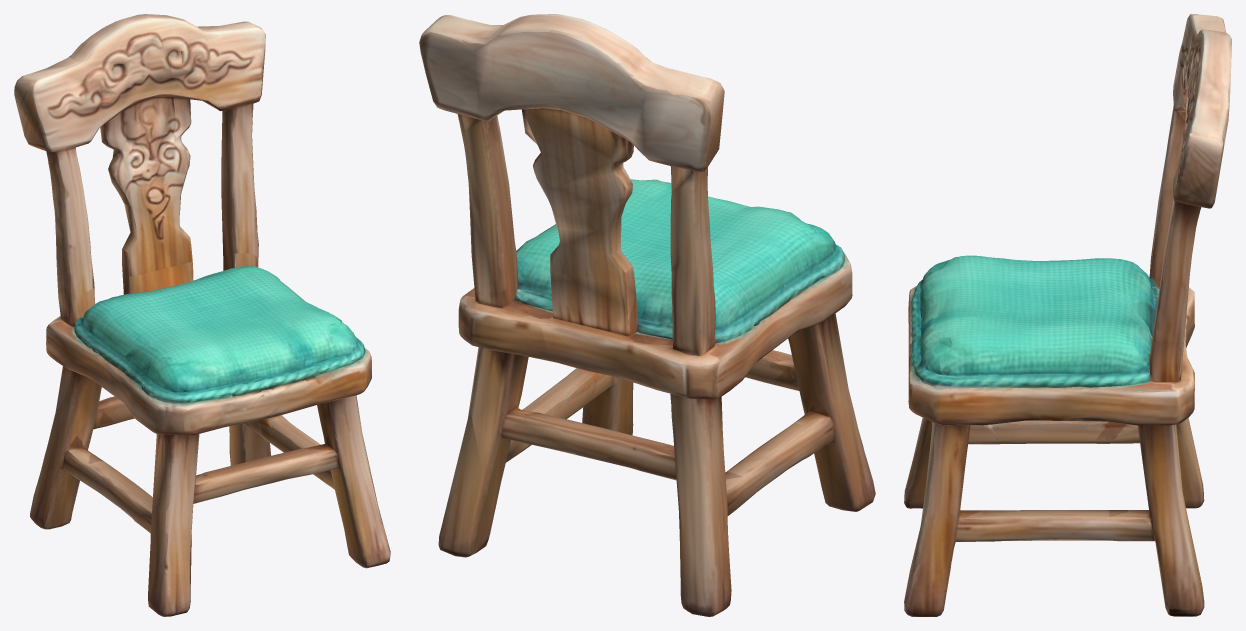
The model's file is chair-cloudwood.glb.
3 renders of one model, left to right at view 1: azimuth 30°, elevation 25°; view 2: azimuth 150°, elevation 25°; view 3: azimuth 270°, elevation 25°, orthographic. The views are drawn at different scales.
Parts seen in each view (by area): view 1: geometry_0; view 2: geometry_0; view 3: geometry_0.
Boxes of the visible parts, x1=… form: geometry_0: x1=14, y1=14, x2=390, y2=616; geometry_0: x1=419, y1=14, x2=875, y2=616; geometry_0: x1=904, y1=14, x2=1231, y2=616.
Size of the model in its own units: 0.4027 by 0.7487 by 0.431.
Materials: 1 (1 with a texture image).
